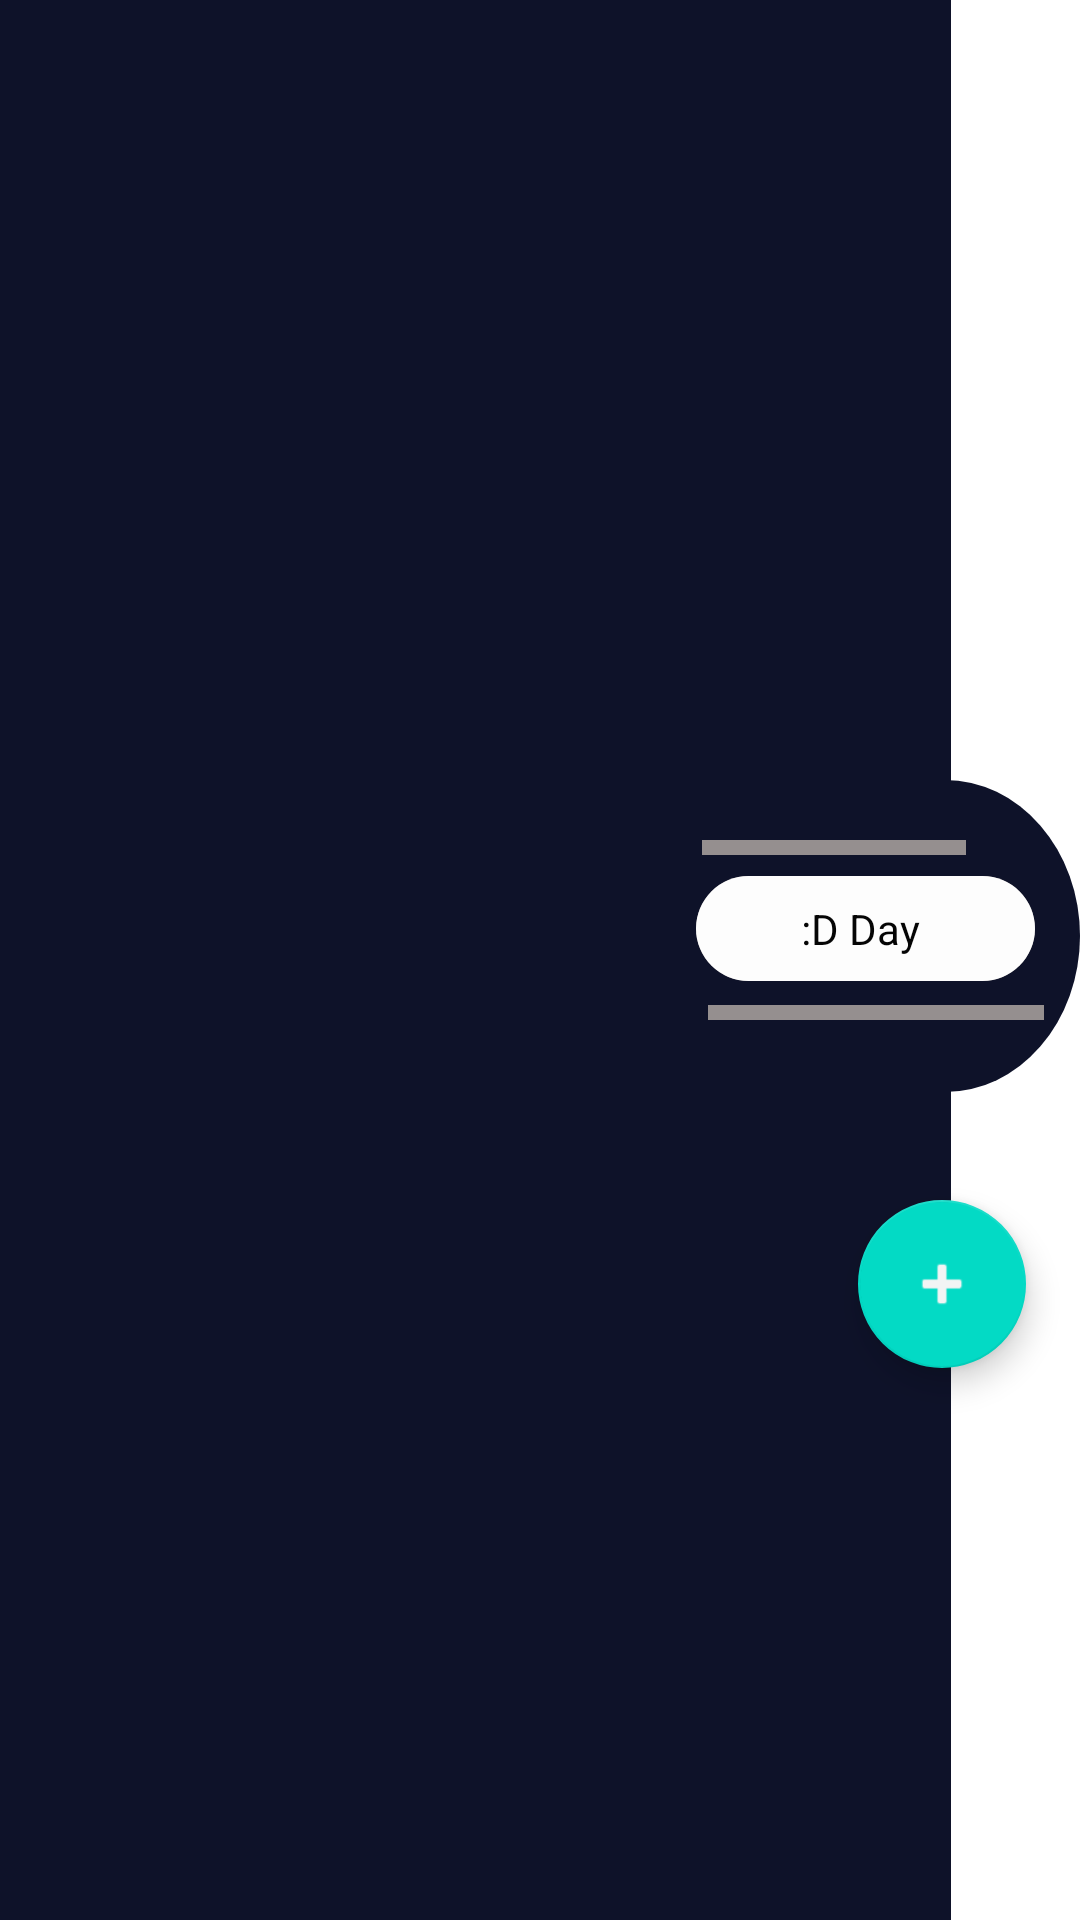

Named icons in this screenshot (1080 × 1920) and their centers, (x,y):
add: (942,1284)
